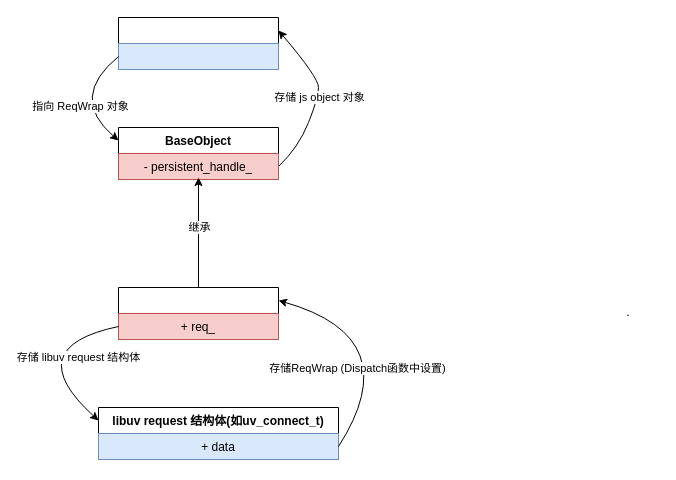
Some shapes in this 676 by 480 pixel diagram are drawn without their labels. The shapes that lost their labels are listed below. From the top down, each one's box as (x1, y1, x2, y2) in pixels, then its label:
(118, 16, 278, 70): V8::Object
(118, 42, 278, 70): 内置字段
(118, 286, 278, 340): ReqWrap
